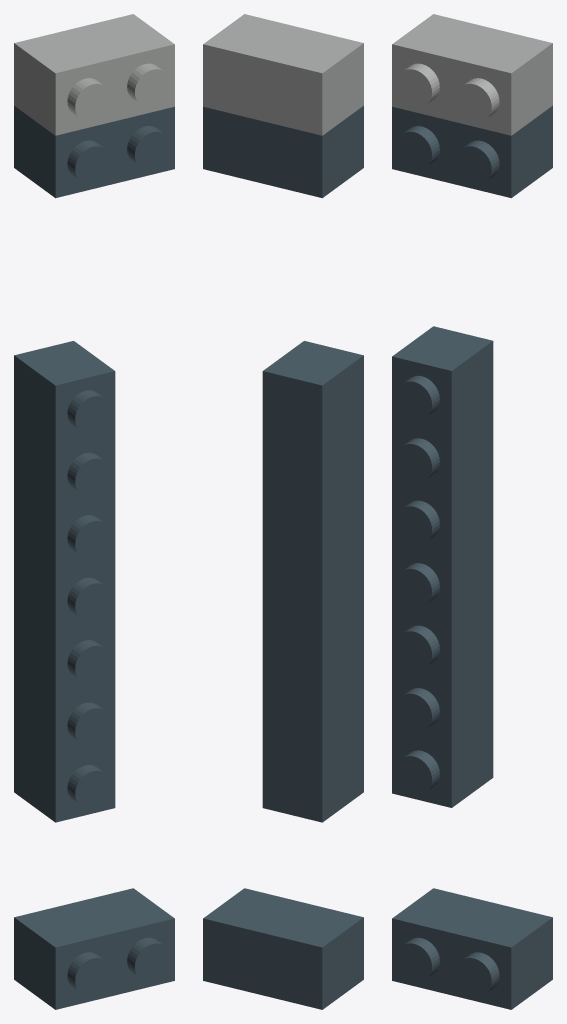
File: current.glb
The picture shows the model from 3 angles, left to right: view 1: azimuth 30°, elevation 25°; view 2: azimuth 150°, elevation 25°; view 3: azimuth 330°, elevation 25°; orthographic projection.
Parts seen in each view (by area): view 1: world; view 2: world; view 3: world.
Boxes of the visible parts, x1,y1,x2,y2 form: world: [14, 14, 174, 1009]; world: [203, 14, 363, 1009]; world: [392, 14, 552, 1009].
Size of the model in its own units: 16 by 120 by 11.4.
